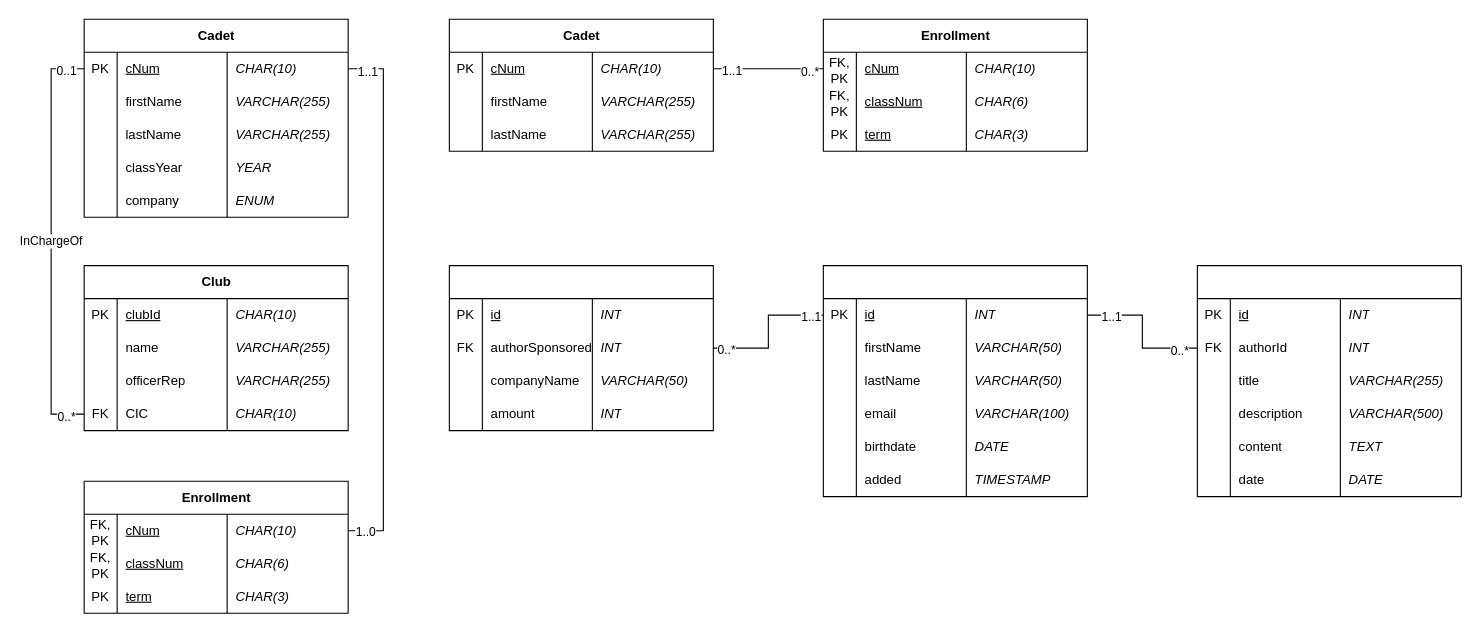
Image size: 1481x633. Some labels were removed from this diagram. Here are the shapes that lost their labels. From the top down, the box of each, then its label:
(448, 265, 713, 431): Sponsorship
(822, 265, 1087, 497): Author
(1196, 265, 1461, 497): Post
